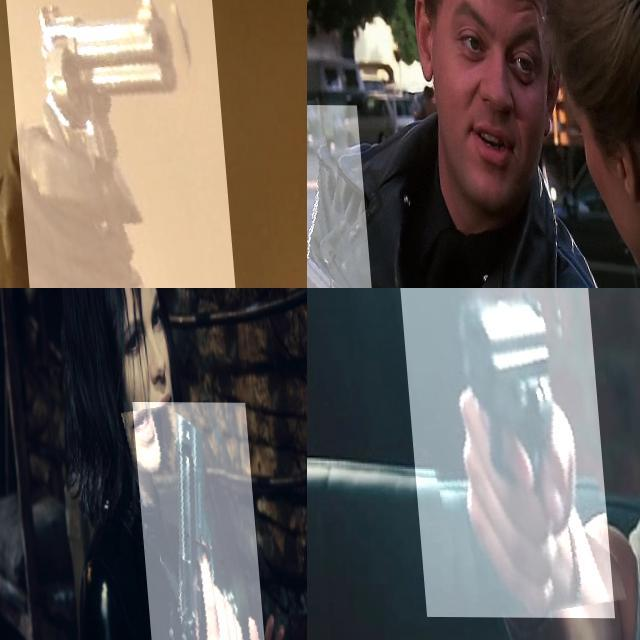gun-knife-thesis - v11 Yolov5 augmented: (393, 288, 604, 617), (0, 0, 230, 288), (128, 401, 261, 640), (307, 104, 406, 288)
